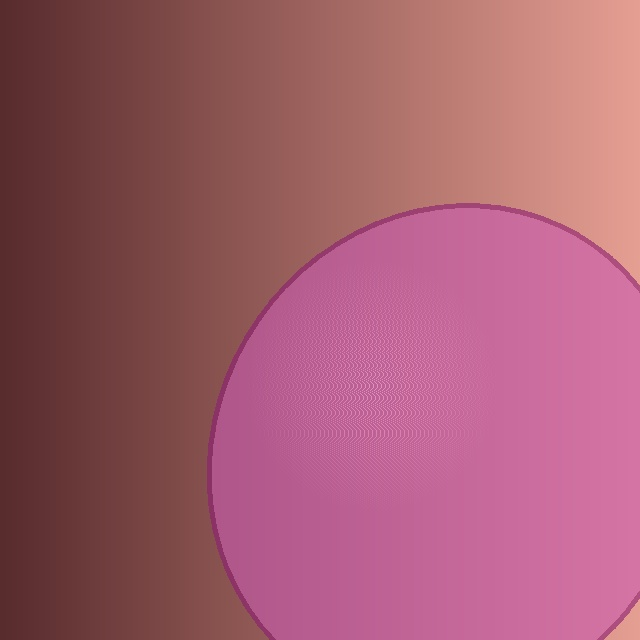lens: (209, 205, 640, 640)
